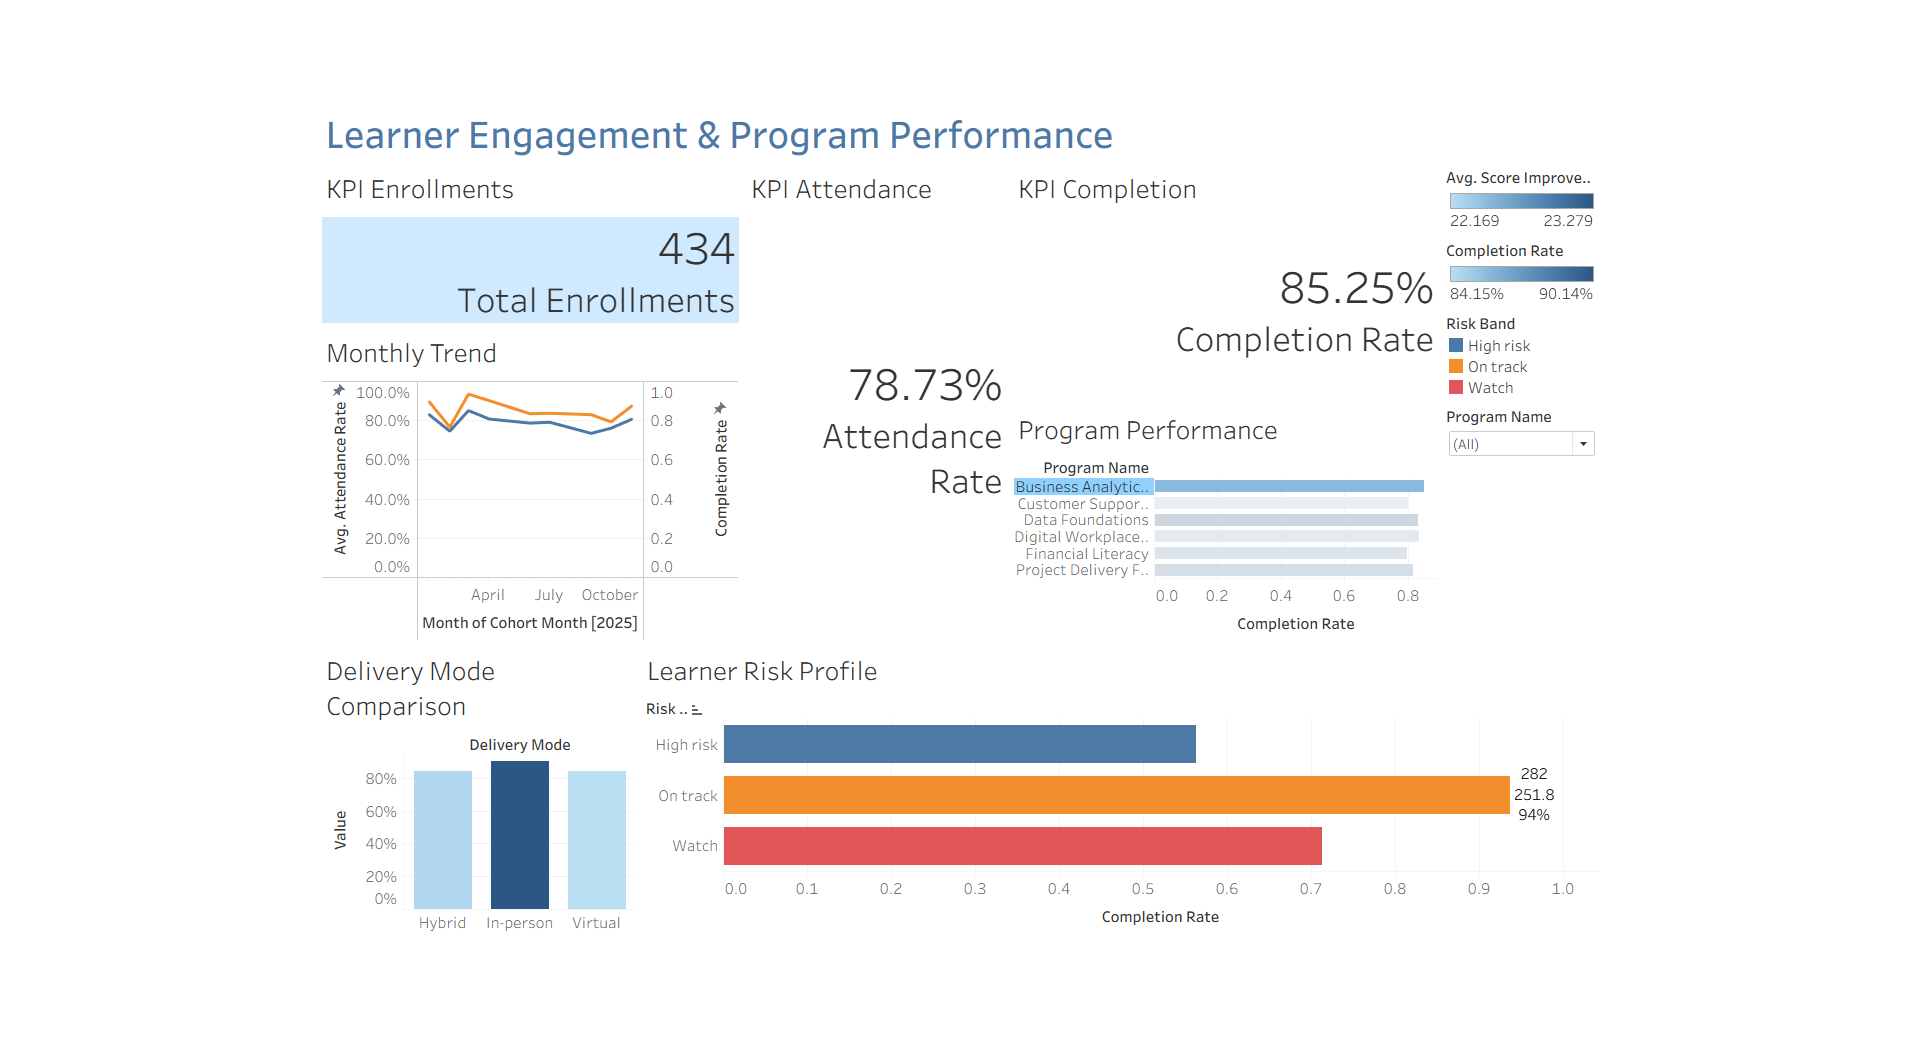

What the dashboard file says about the page in this screenshot:
{"tool":"tableau","page":{"name":"Learner Engagement & Program Performance","canvas":[1300,850],"ordinal":0},"visuals":[{"type":"title","box":[8,8,1284,59]},{"type":"worksheet","title":"KPI Enrollments","mark":"Text","box":[8,67,425,164]},{"type":"worksheet","title":"KPI Attendance","mark":"Text","box":[433,67,267.4,482]},{"type":"worksheet","title":"KPI Completion","mark":"Text","box":[700.4,67,431.6,241]},{"type":"legend","title":"Program Performance","param":"[federated.1wlwvu815848di17wot3t0polmml].[avg:score_improvement:qk]","box":[1132,67,160,73]},{"type":"legend","title":"Delivery Mode Comparison","param":"[federated.1wlwvu815848di17wot3t0polmml].[usr:Calculation_0448703514660865:qk]","box":[1132,140,160,73]},{"type":"legend","title":"Learner Risk Profile","param":"[federated.1wlwvu815848di17wot3t0polmml].[none:risk_band:nk]","box":[1132,213,160,93]},{"type":"worksheet","title":"Monthly Trend","mark":"Line","rows":["attendance_rate","Calculation_0448703514660865"],"cols":["cohort_month"],"box":[8,231,425,318]},{"type":"filter","title":"Program Performance","param":"[federated.1wlwvu815848di17wot3t0polmml].[none:program_name:nk]","box":[1132,306,160,61]},{"type":"worksheet","title":"Program Performance","mark":"Automatic","rows":["program_name"],"cols":["Calculation_0448703514660865"],"box":[700.4,308,431.6,241]},{"type":"worksheet","title":"Delivery Mode Comparison","mark":"Bar","cols":["delivery_mode"],"box":[8,549,321,293]},{"type":"worksheet","title":"Learner Risk Profile","mark":"Automatic","rows":["risk_band"],"cols":["Calculation_0448703514660865"],"box":[329,549,963,293]}]}

Visuals, with their boxes on the page's 1300x850 design canvas (x1, y1, x2, y2). These are canvas units, not pixel positions in the 1919x1043 screenshot, which may show the page scaled, cropped or inside an application window:
title: 8,8,1292,67
"KPI Enrollments" worksheet (Text marks): 8,67,433,231
"KPI Attendance" worksheet (Text marks): 433,67,700,549
"KPI Completion" worksheet (Text marks): 700,67,1132,308
"Program Performance" legend: 1132,67,1292,140
"Delivery Mode Comparison" legend: 1132,140,1292,213
"Learner Risk Profile" legend: 1132,213,1292,306
"Monthly Trend" worksheet (Line marks): 8,231,433,549
"Program Performance" filter: 1132,306,1292,367
"Program Performance" worksheet: 700,308,1132,549
"Delivery Mode Comparison" worksheet (Bar marks): 8,549,329,842
"Learner Risk Profile" worksheet: 329,549,1292,842
